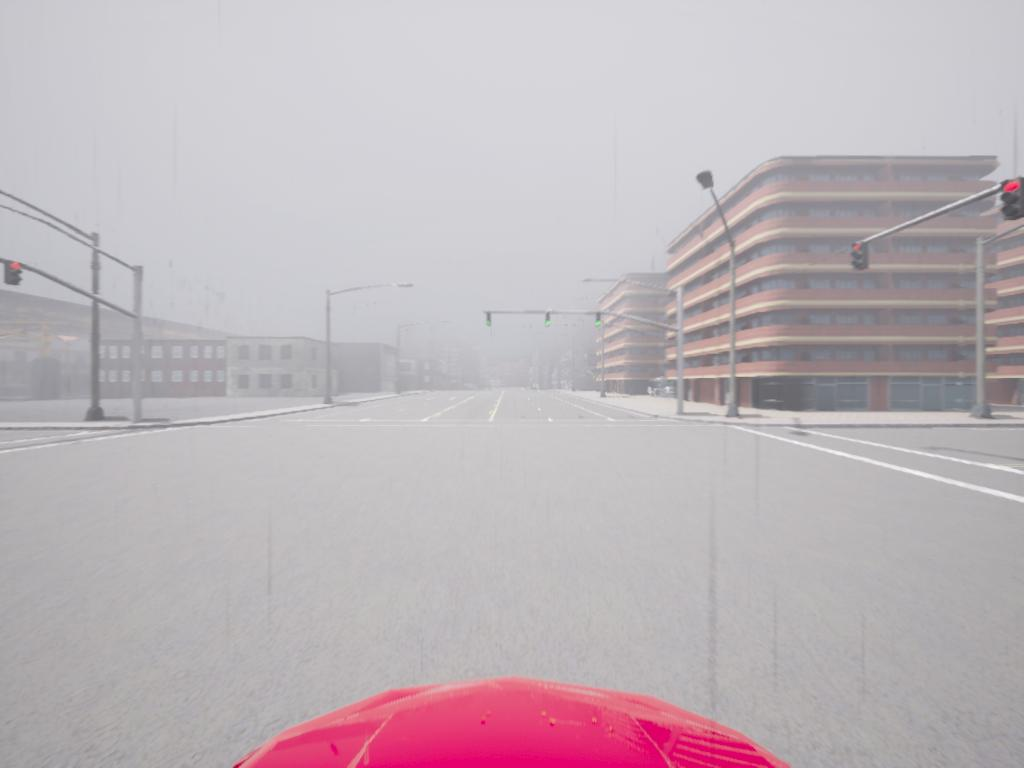traffic_light: (1000, 180, 1024, 222), (6, 262, 26, 288), (853, 243, 872, 270), (487, 311, 494, 328), (546, 313, 553, 329), (596, 314, 604, 328)
